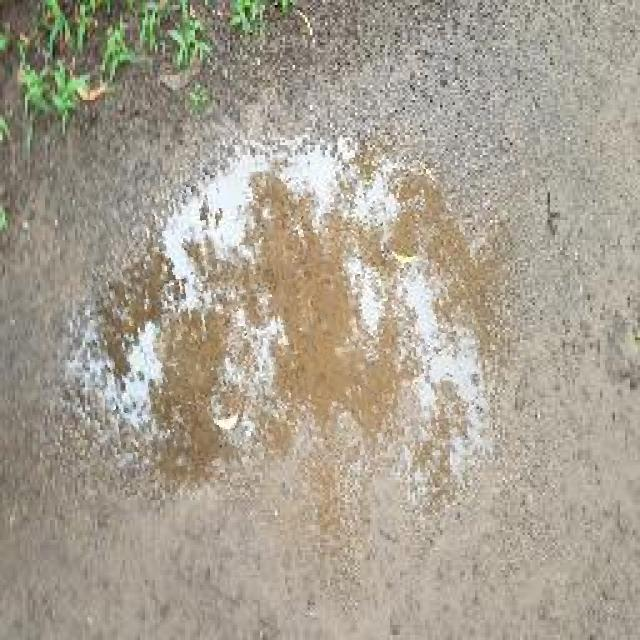puddle: (87, 158, 484, 473)
